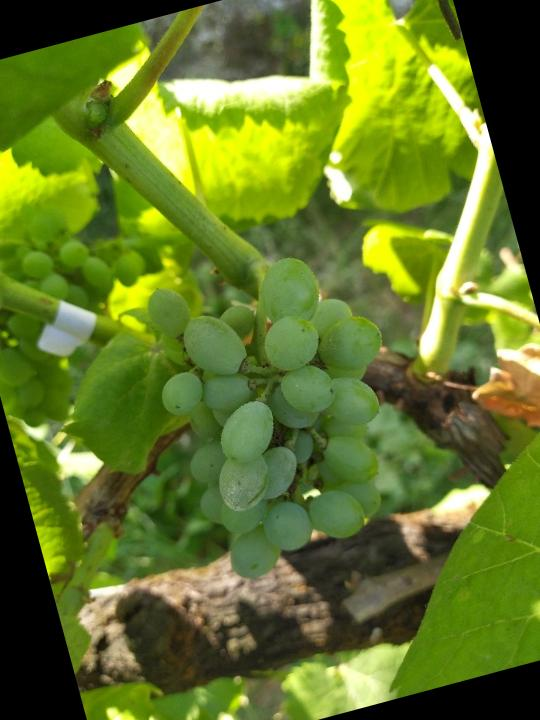grape: (131, 228, 439, 595)
